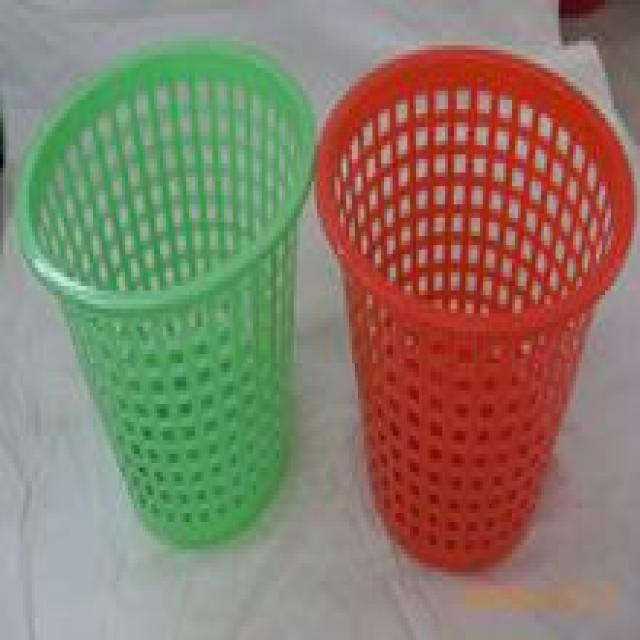Dustbin: (312, 42, 637, 579), (12, 34, 318, 555)
